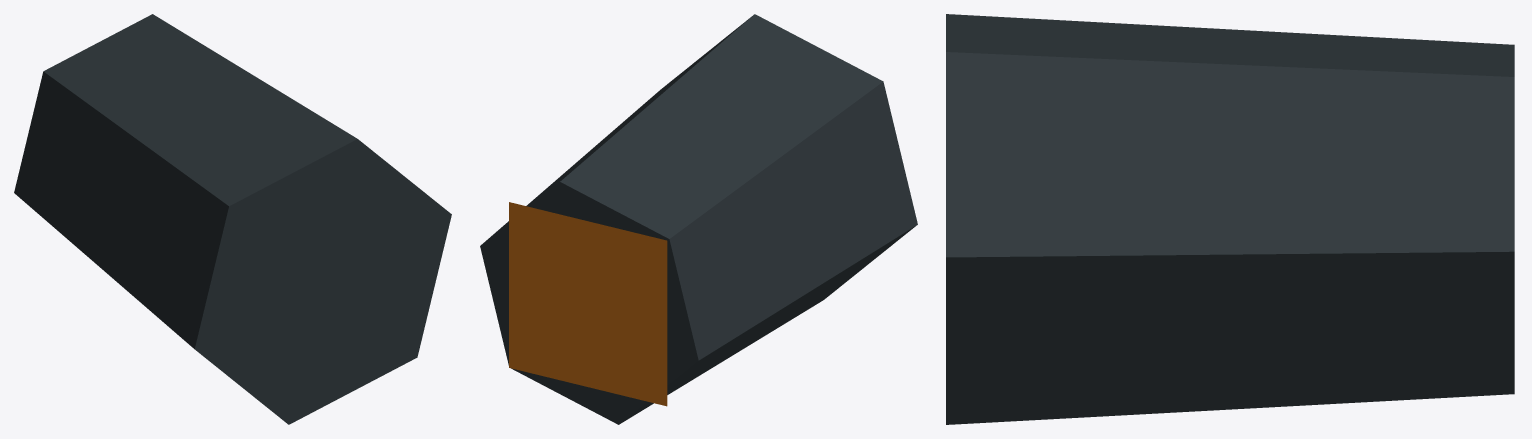
The picture shows the model from 3 angles, left to right: view 1: azimuth 30°, elevation 25°; view 2: azimuth 150°, elevation 25°; view 3: azimuth 270°, elevation 25°; orthographic projection. The views are drawn at different scales.
Visible parts, largest first — view 1: mount; view 2: mount; view 3: mount.
Boxes of the visible parts, x1,y1,x2,y2 form: mount: (14,14,451,424); mount: (480,14,917,424); mount: (946,14,1514,424).
Size of the model in its own units: 3.86 by 3.86 by 5.23.
